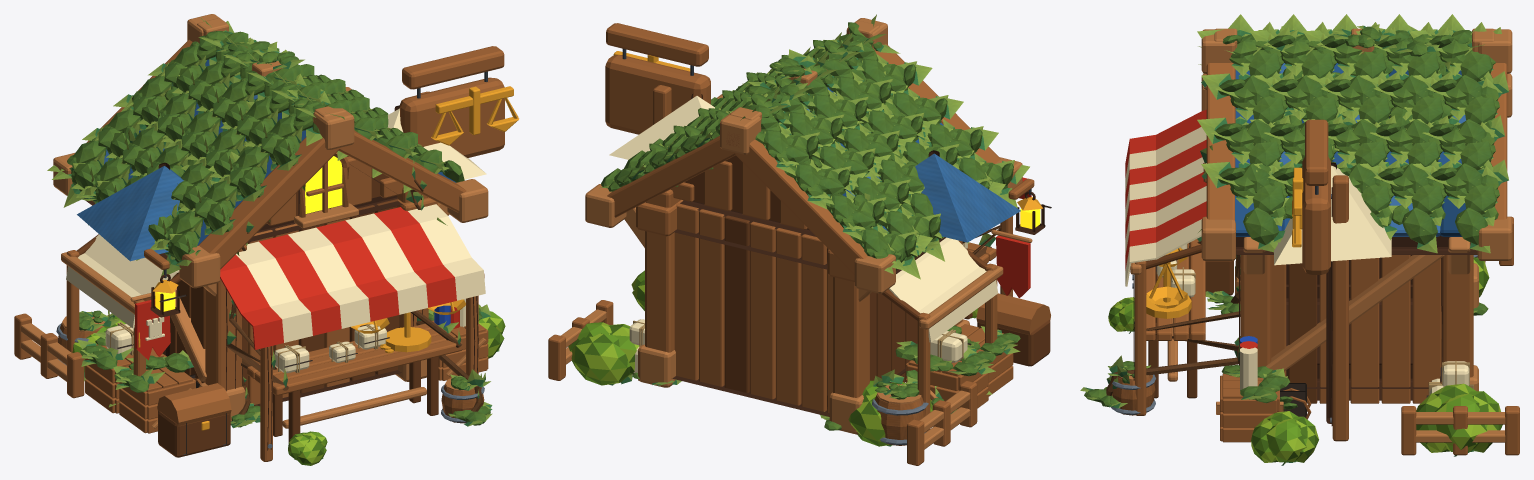
File: trade_market.glb
The picture shows the model from 3 angles, left to right: view 1: azimuth 30°, elevation 25°; view 2: azimuth 150°, elevation 25°; view 3: azimuth 270°, elevation 25°; orthographic projection. The views are drawn at different scales.
Parts seen in each view (by area): view 1: Runtime surface 000, Runtime surface 007, Runtime surface 010, Runtime surface 009, Runtime surface 001, Runtime surface 006, Runtime surface 008, Runtime surface 029, Runtime surface 016, Runtime surface 011, Runtime surface 018, Runtime surface 033 (+13 smaller); view 2: Runtime surface 000, Runtime surface 007, Runtime surface 001, Runtime surface 008, Runtime surface 006, Runtime surface 010, Runtime surface 016, Runtime surface 029, Runtime surface 011, Runtime surface 018, Runtime surface 026, Runtime surface 033 (+8 smaller); view 3: Runtime surface 007, Runtime surface 000, Runtime surface 001, Runtime surface 006, Runtime surface 010, Runtime surface 008, Runtime surface 009, Runtime surface 030, Runtime surface 011, Runtime surface 033, Runtime surface 026, Runtime surface 016 (+17 smaller).
Boxes of the visible parts, x1=… form: Runtime surface 000: x1=14, y1=39, x2=488, y2=461; Runtime surface 007: x1=67, y1=31, x2=484, y2=392; Runtime surface 010: x1=66, y1=204, x2=485, y2=373; Runtime surface 009: x1=135, y1=207, x2=459, y2=360; Runtime surface 001: x1=21, y1=14, x2=488, y2=428; Runtime surface 006: x1=47, y1=17, x2=499, y2=458; Runtime surface 008: x1=76, y1=156, x2=438, y2=457; Runtime surface 029: x1=77, y1=166, x2=183, y2=261; Runtime surface 016: x1=400, y1=77, x2=504, y2=157; Runtime surface 011: x1=84, y1=156, x2=478, y2=450; Runtime surface 018: x1=402, y1=46, x2=504, y2=89; Runtime surface 033: x1=122, y1=31, x2=490, y2=427; Runtime surface 000: x1=548, y1=44, x2=1050, y2=465; Runtime surface 007: x1=601, y1=22, x2=1020, y2=405; Runtime surface 001: x1=561, y1=18, x2=1032, y2=449; Runtime surface 008: x1=684, y1=155, x2=1050, y2=392; Runtime surface 006: x1=599, y1=14, x2=1029, y2=445; Runtime surface 010: x1=629, y1=237, x2=997, y2=375; Runtime surface 016: x1=605, y1=55, x2=710, y2=134; Runtime surface 029: x1=915, y1=153, x2=1020, y2=242; Runtime surface 011: x1=672, y1=191, x2=1045, y2=416; Runtime surface 018: x1=606, y1=23, x2=708, y2=66; Runtime surface 026: x1=568, y1=276, x2=977, y2=446; Runtime surface 033: x1=633, y1=45, x2=924, y2=430; Runtime surface 007: x1=1122, y1=34, x2=1499, y2=409; Runtime surface 000: x1=1135, y1=62, x2=1519, y2=455; Runtime surface 001: x1=1118, y1=28, x2=1512, y2=442; Runtime surface 006: x1=1108, y1=14, x2=1508, y2=464; Runtime surface 010: x1=1125, y1=127, x2=1469, y2=394; Runtime surface 008: x1=1146, y1=244, x2=1317, y2=403; Runtime surface 009: x1=1125, y1=109, x2=1257, y2=348; Runtime surface 030: x1=1274, y1=165, x2=1391, y2=265; Runtime surface 011: x1=1133, y1=187, x2=1477, y2=425; Runtime surface 033: x1=1084, y1=26, x2=1488, y2=407; Runtime surface 026: x1=1108, y1=259, x2=1500, y2=462; Runtime surface 016: x1=1302, y1=157, x2=1330, y2=274.
Bounding box in the file's own units: 4.78 × 3.54 × 4.05.
30 materials, 10 textured.
